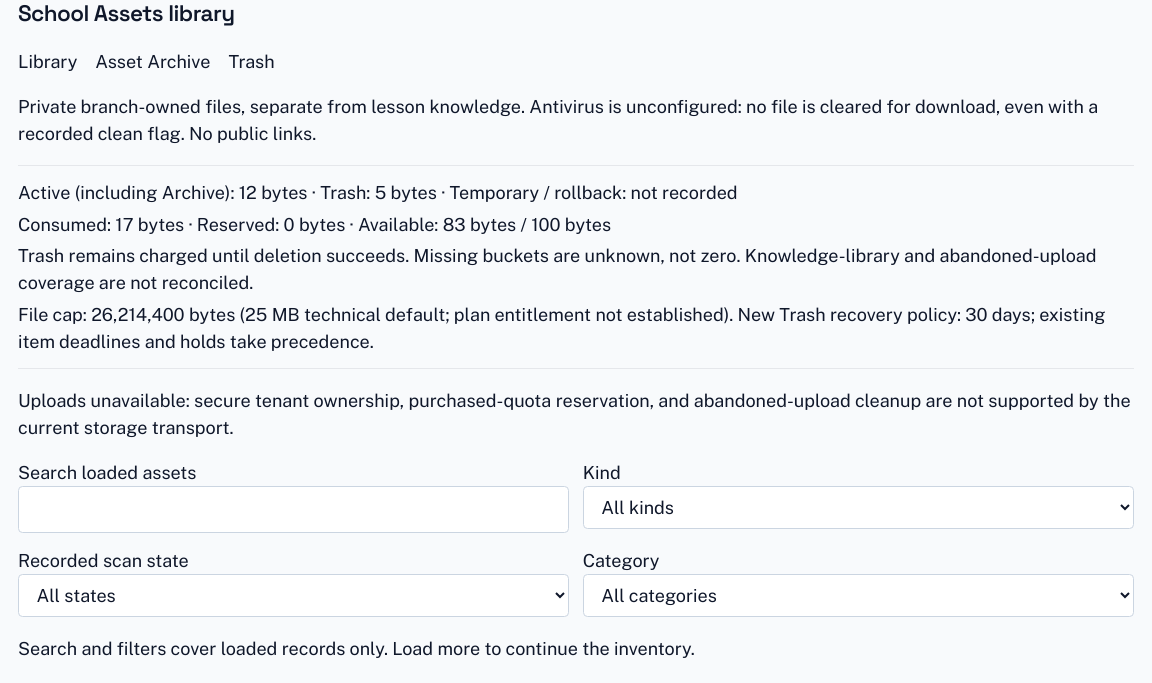
Test case: filters loaded records and inspects real metadata without clean or download claims
In the search field labelled "Search loaded assets": (294, 510) top-left (18, 486), bottom-right (569, 533), type "missing"
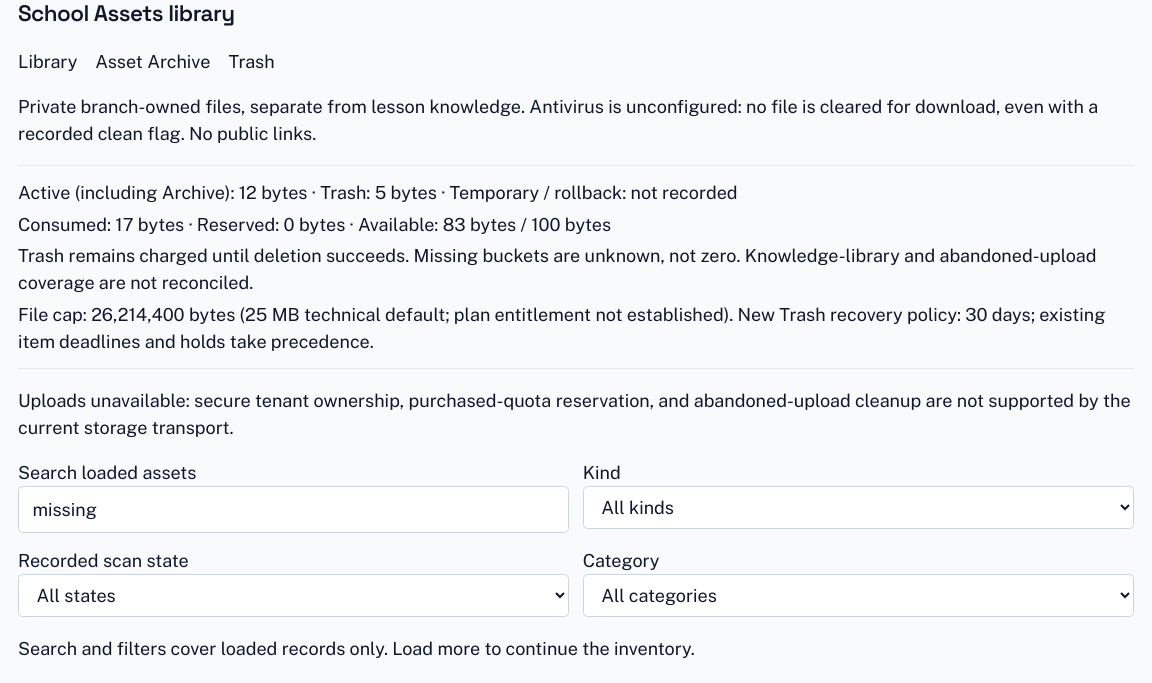
Replace the text in the search field labelled "Search loaded assets" with "rules": (294, 510) top-left (18, 486), bottom-right (569, 533)
(page scrolled)
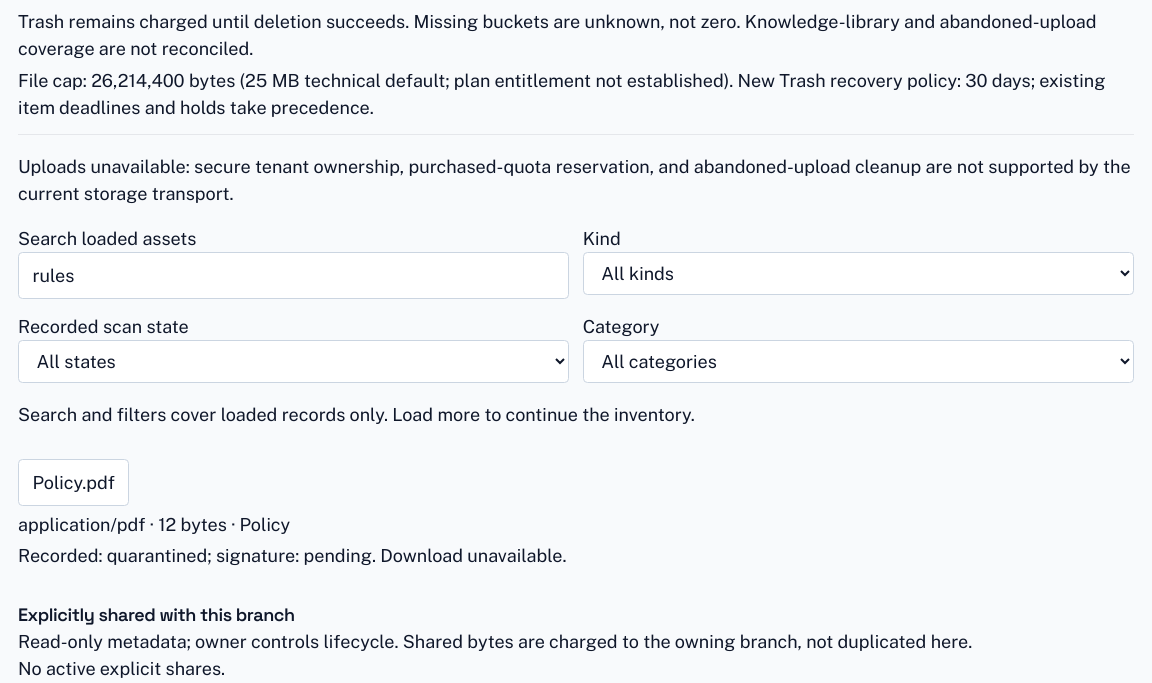
Click the button with aria-label "Inspect Policy.pdf": (74, 482) top-left (18, 459), bottom-right (129, 506)
(page scrolled)
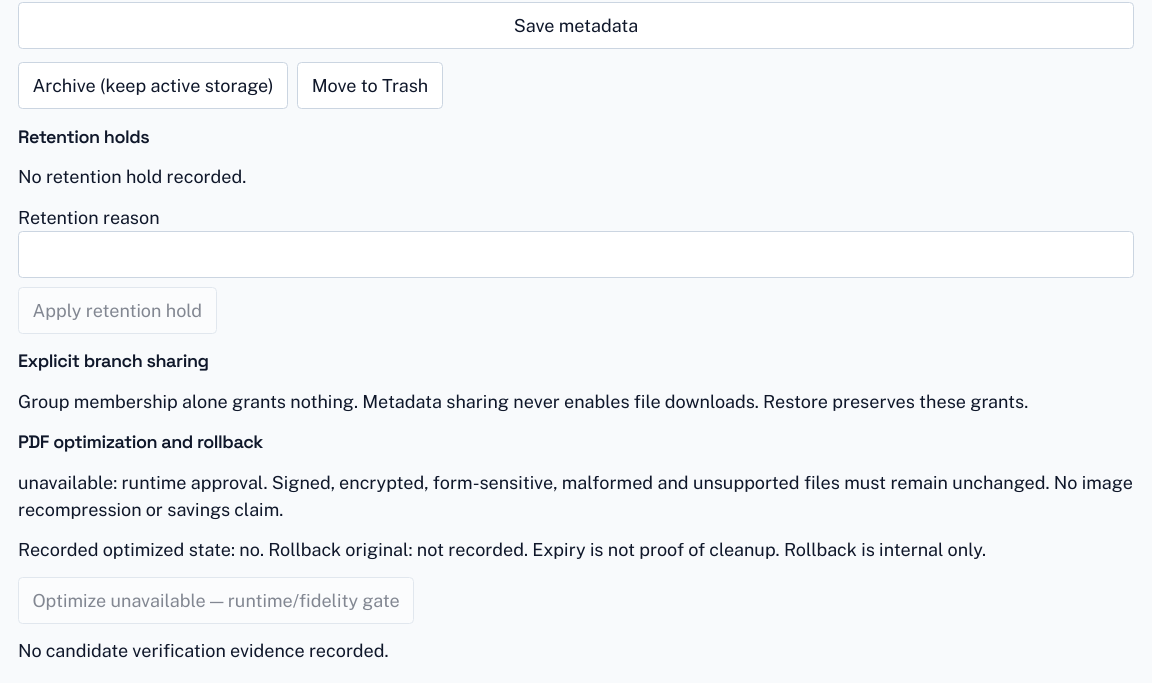
Check: the link "Download" is not shown
Check: the button "Optimize unavailable — runtime/fidelity gate" is disabled, box top-left (18, 576), bottom-right (414, 624)
